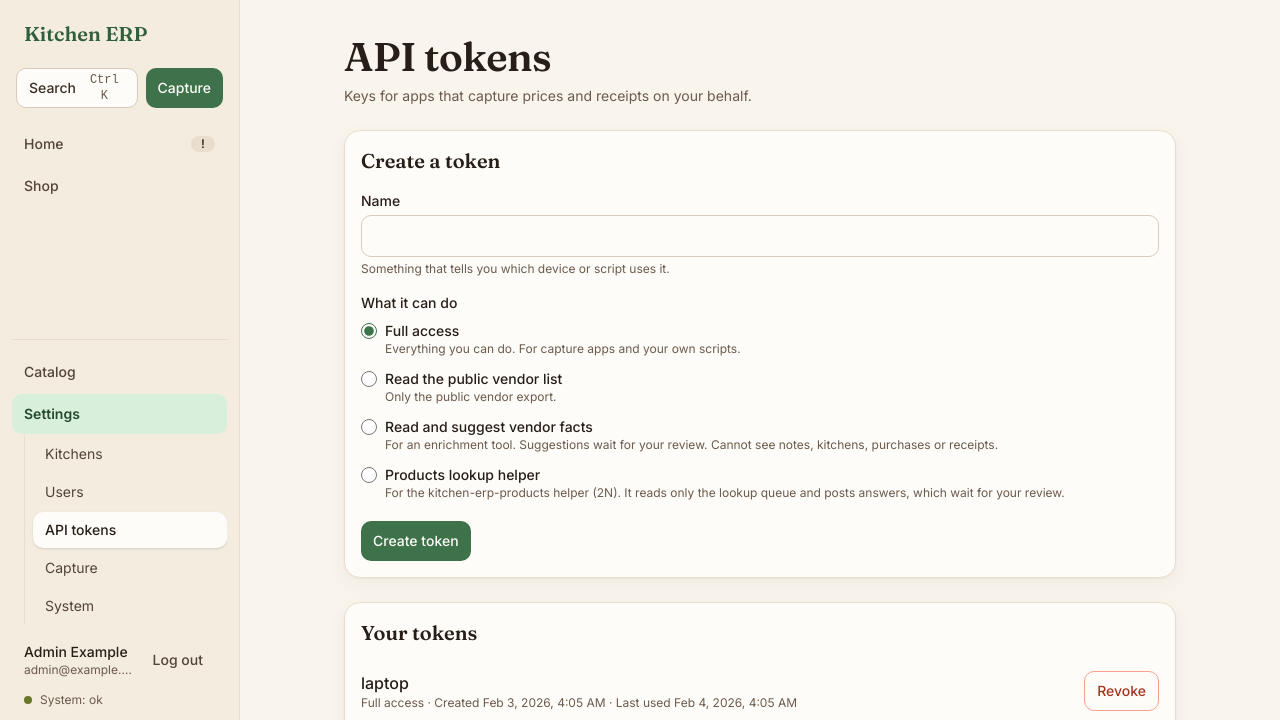
it: api tokens › revokes a token after confirmation
What coordinates should you click on to do the following:
click the button with aria-label "Revoke laptop"
I would click on:
 (1122, 691)
Its box is [1084,671,1159,711].
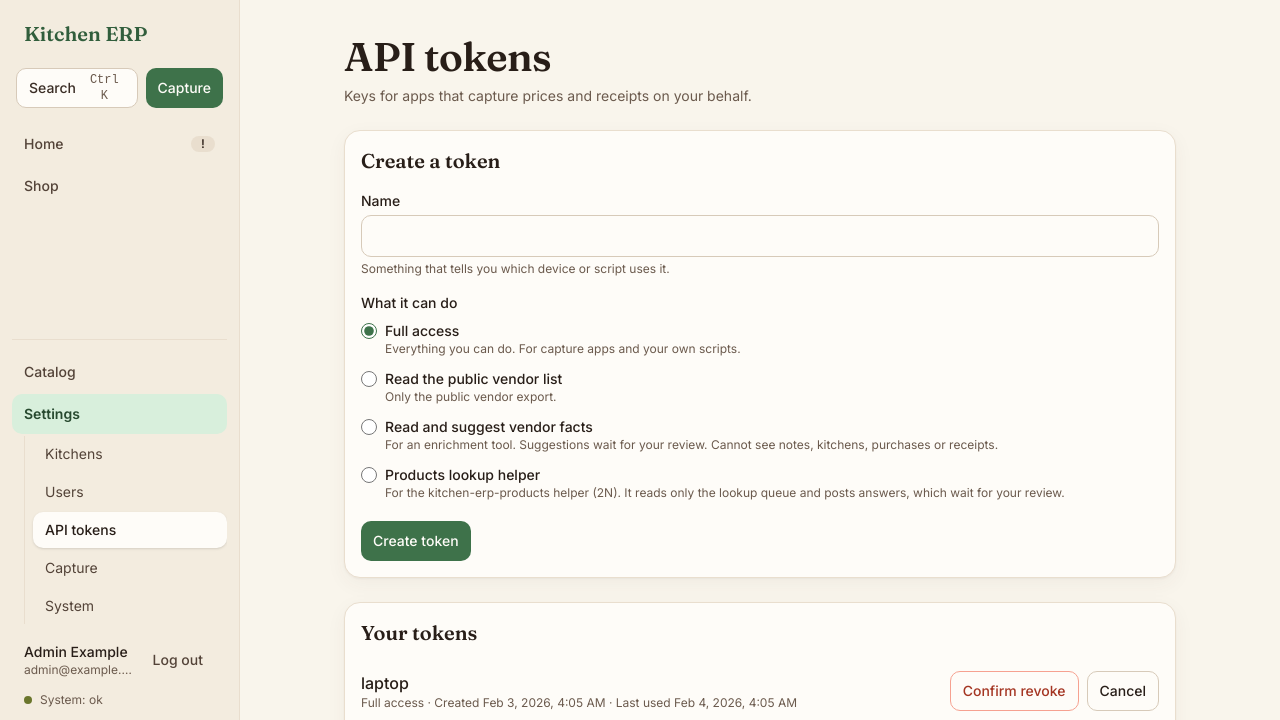
What coordinates should you click on to do the following:
click the button "Confirm revoke"
I would click on:
 (1014, 691)
Its box is [950,671,1079,711].
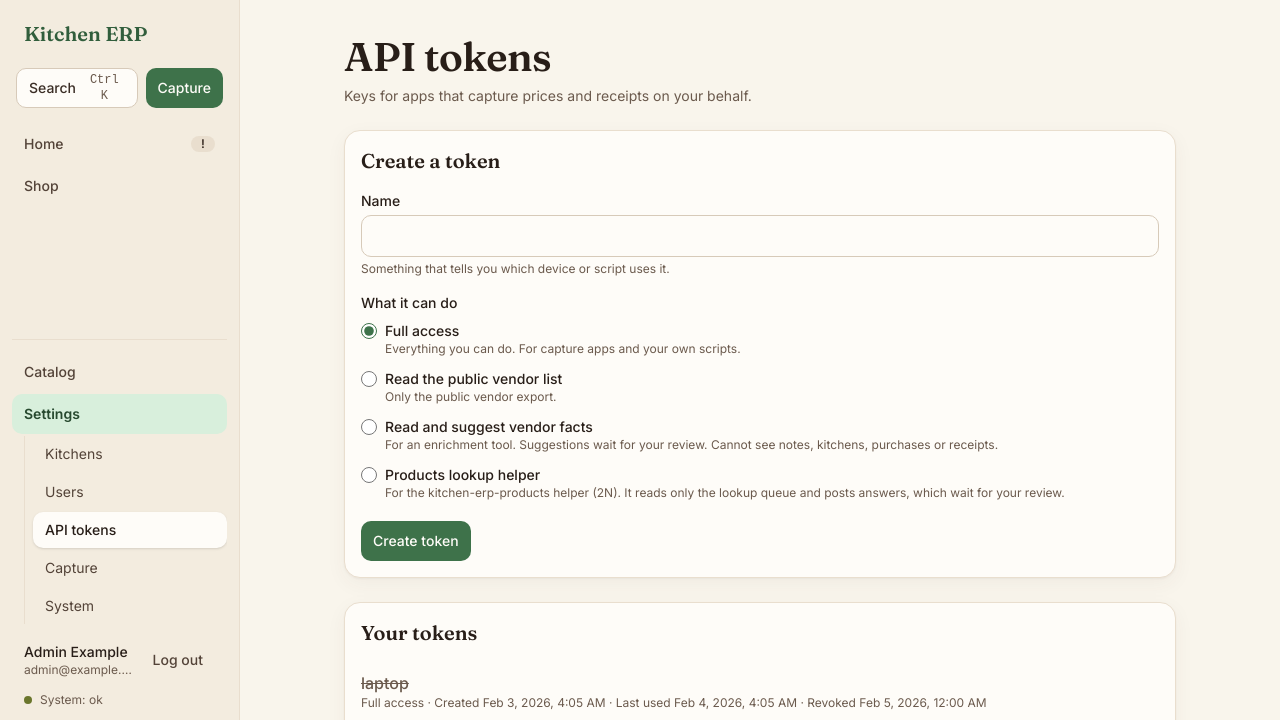
Result: the text "Revoked" is shown at [807,695,856,710]
